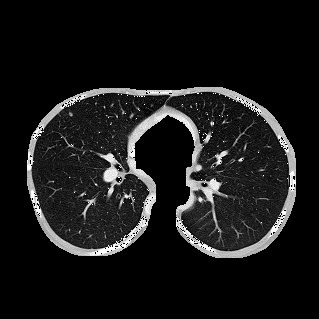PN: (68, 112, 72, 116)
